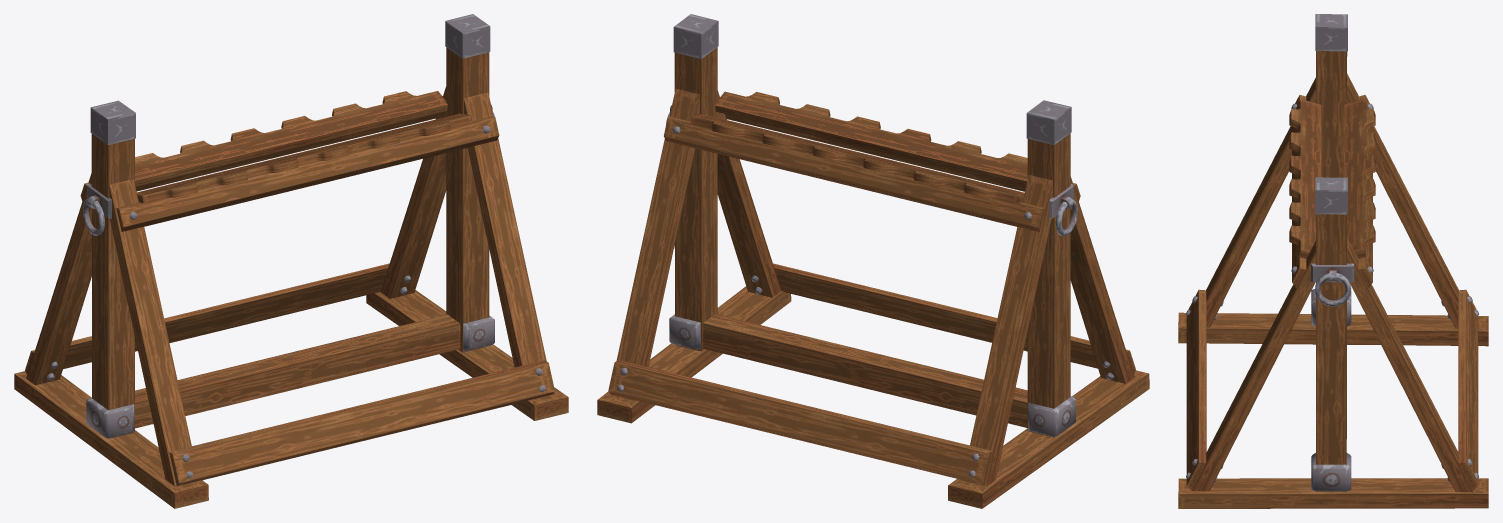
Rendered from WeaponStand.gltf.
3 views of the same model, side by side, from view 1: azimuth 30°, elevation 25°; view 2: azimuth 150°, elevation 25°; view 3: azimuth 270°, elevation 25° (orthographic). The views are drawn at different scales.
Visible parts, largest first — view 1: WeaponStand; view 2: WeaponStand; view 3: WeaponStand.
Boxes of the visible parts, bbox=[...] form: WeaponStand: bbox=[14, 14, 568, 508]; WeaponStand: bbox=[597, 14, 1149, 508]; WeaponStand: bbox=[1178, 14, 1488, 508].
Bounding box in the file's own units: 1.39 × 1.11 × 0.9831.
Materials: 2 (2 with a texture image).
